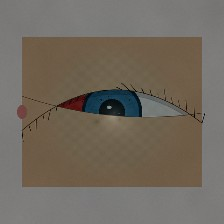hemorrhage_spot: (45, 70, 131, 139)
